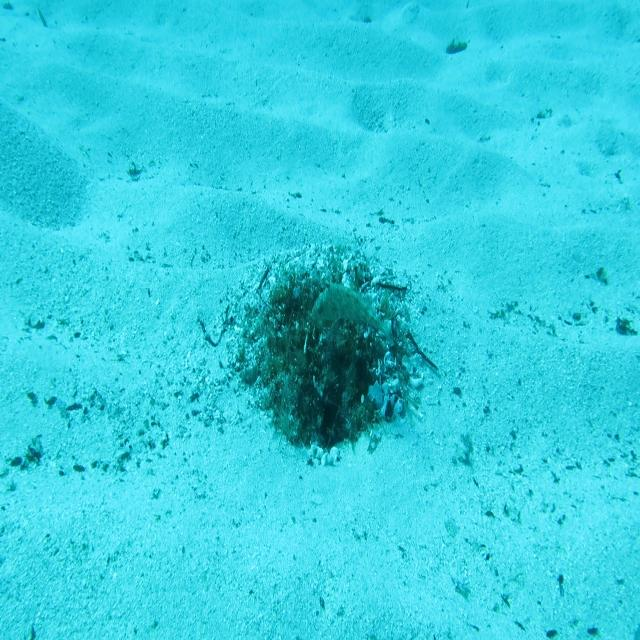ROLL: (311, 277, 393, 348)
core_nest: (296, 294, 341, 330)
female: (632, 621, 640, 639)
nest: (224, 231, 437, 472)
vegetation: (445, 36, 468, 56)
